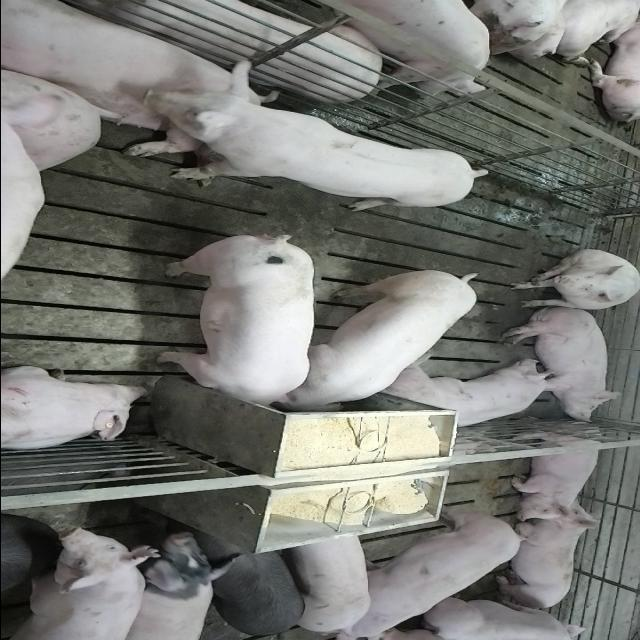Feeding: (276, 264, 480, 412), (154, 240, 316, 416)
Lateral_lying: (498, 306, 624, 424)
Sitting: (506, 250, 638, 312)
Standing: (152, 56, 482, 210), (335, 506, 525, 636), (0, 524, 162, 638), (292, 0, 486, 94), (100, 530, 240, 640), (178, 526, 308, 638), (289, 531, 371, 635)
Sternal_lying: (0, 0, 244, 152), (381, 361, 571, 433), (0, 365, 151, 453), (488, 508, 600, 612), (506, 424, 604, 520)
